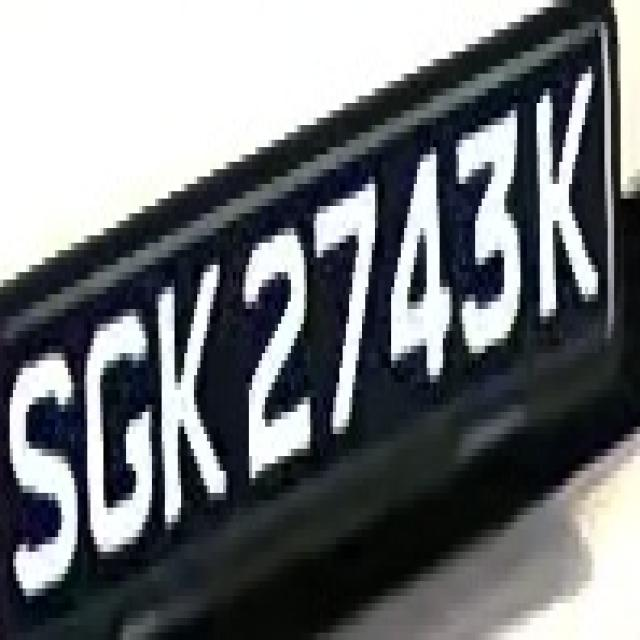2: (236, 191, 320, 493)
3: (449, 103, 534, 360)
4: (372, 110, 456, 405)
7: (301, 184, 391, 434)
G: (74, 279, 158, 566)
K: (530, 59, 614, 353), (148, 250, 230, 537)
S: (7, 316, 84, 626)
